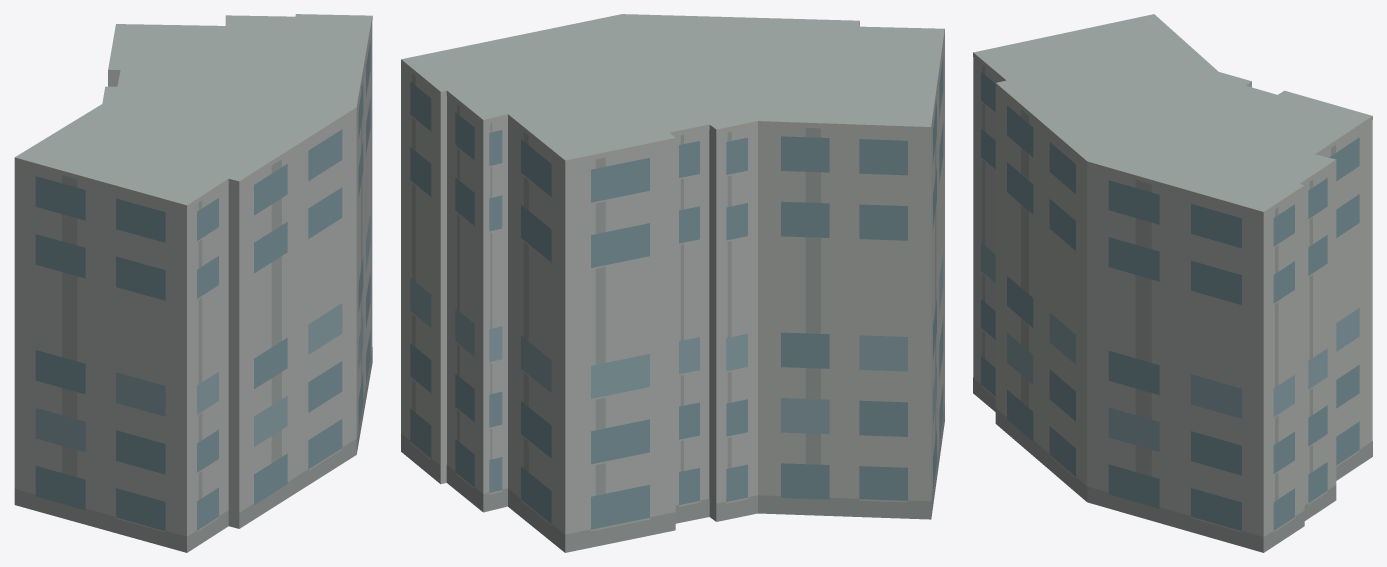
File: survey-upis-32762851.glb
3 views of the same model, side by side, from view 1: azimuth 30°, elevation 25°; view 2: azimuth 150°, elevation 25°; view 3: azimuth 270°, elevation 25° (orthographic). The views are drawn at different scales.
Parts seen in each view (by area): view 1: survey-upis-32762851.tmp; view 2: survey-upis-32762851.tmp; view 3: survey-upis-32762851.tmp.
Boxes of the visible parts, x1,y1,x2,y2 form: survey-upis-32762851.tmp: (14,14,372,552); survey-upis-32762851.tmp: (401,14,944,552); survey-upis-32762851.tmp: (973,14,1372,552).
Bounding box in the file's own units: 22.8 × 18.3 × 19.45.
